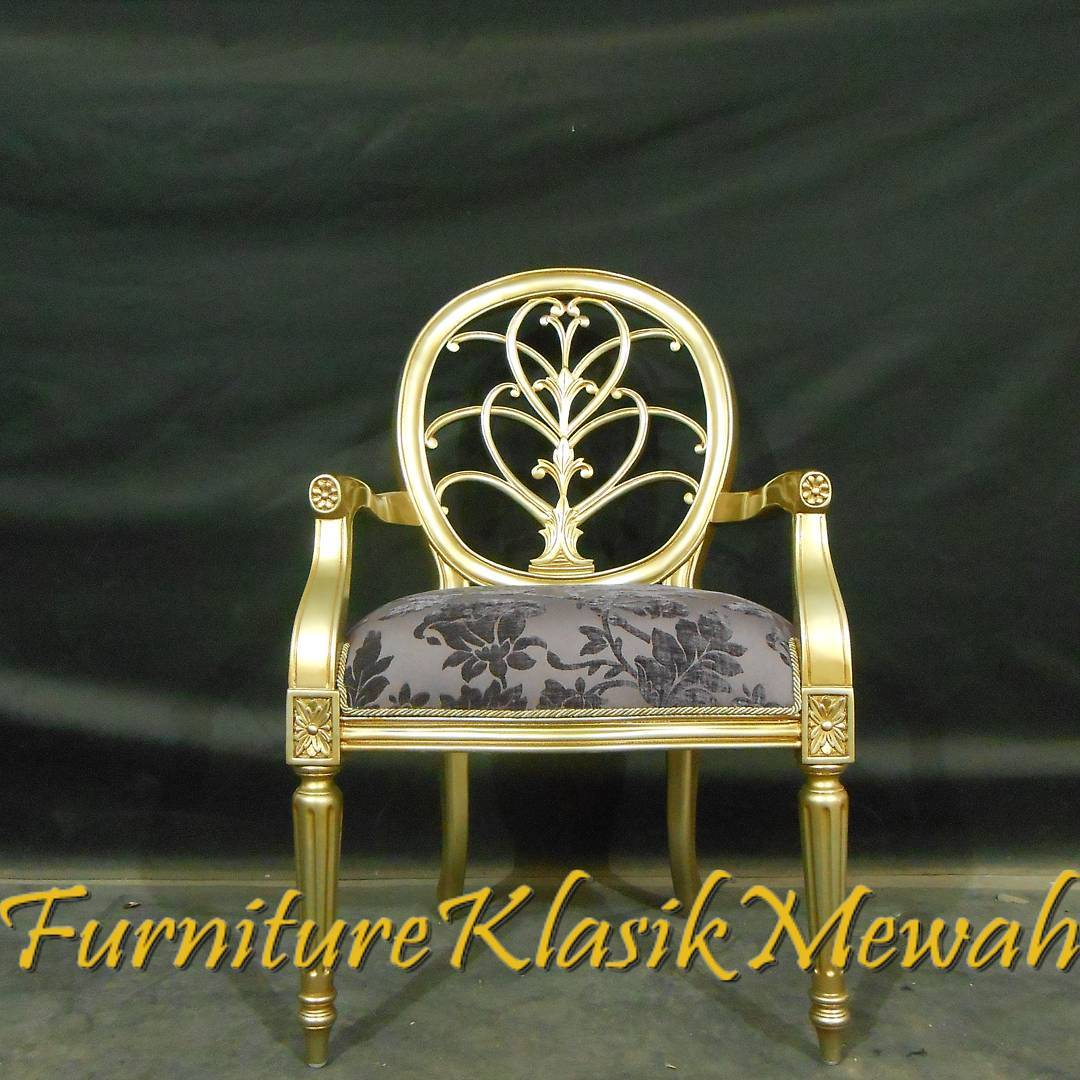Carving Chair: (274, 258, 881, 1049)
